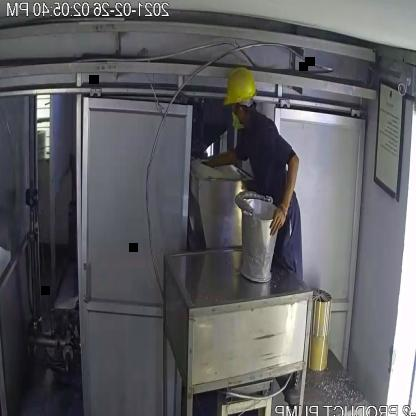helmet: (222, 62, 260, 114)
